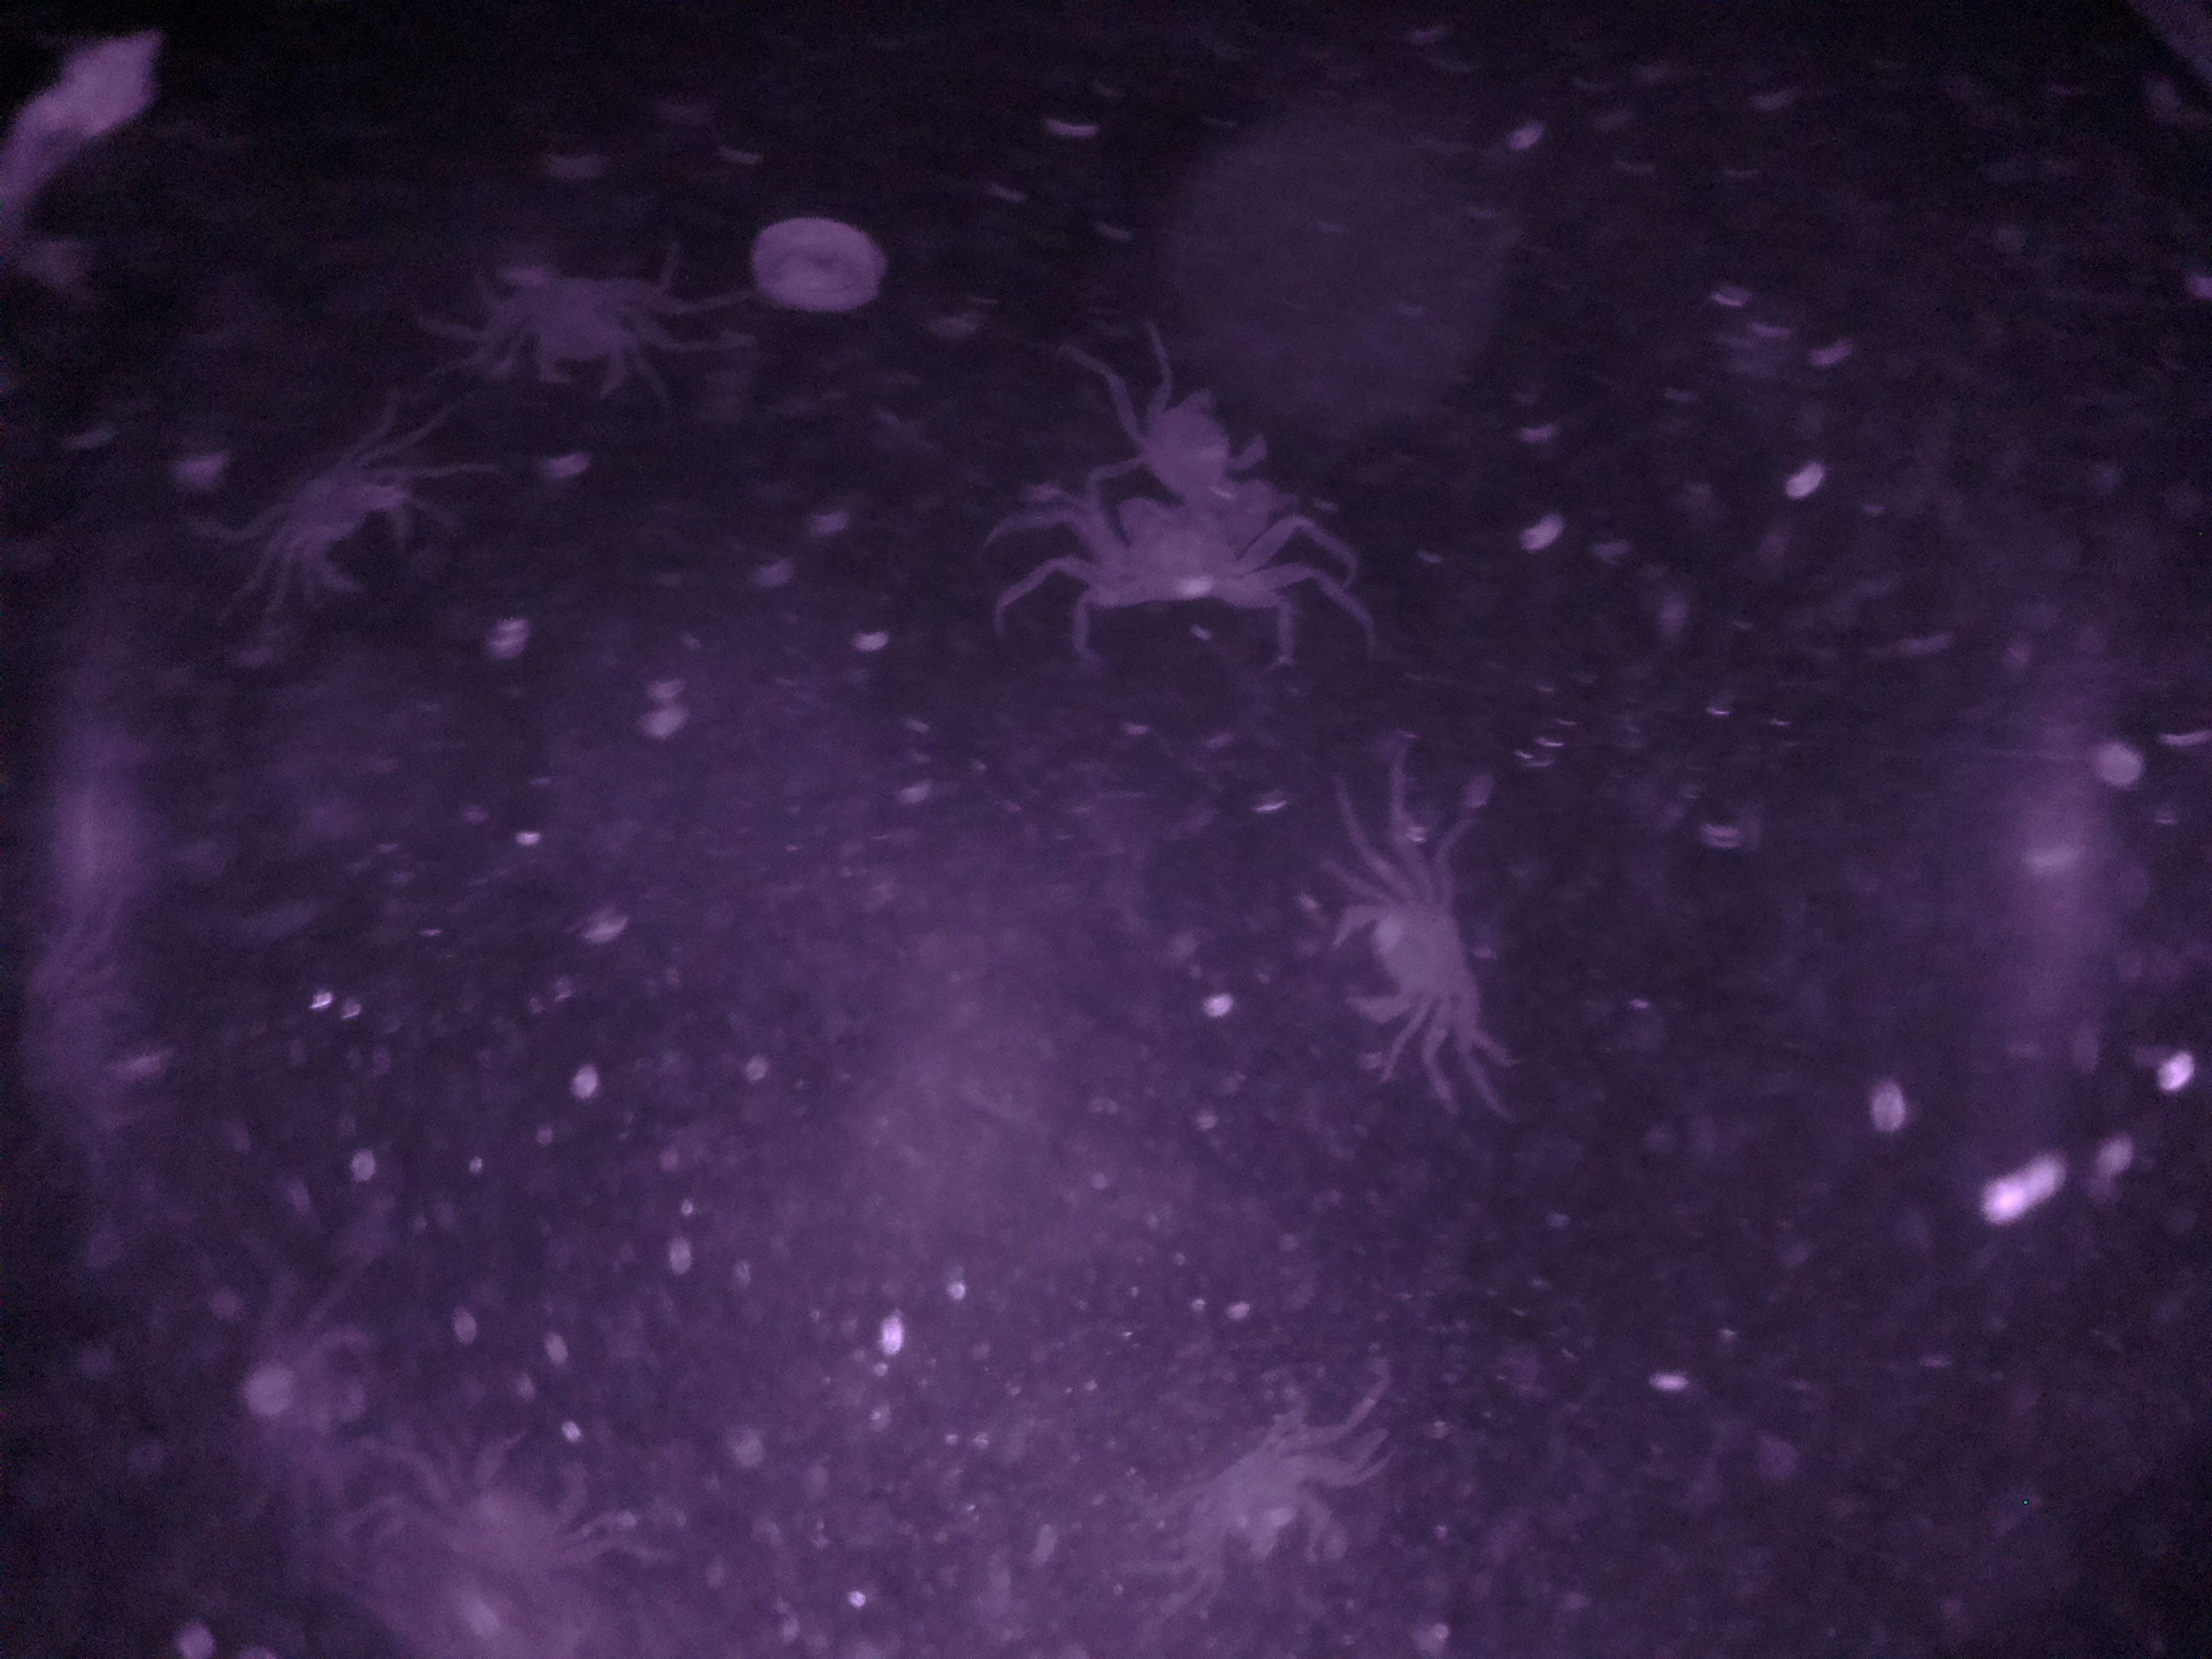Crab: (1305, 823, 1521, 1089)
